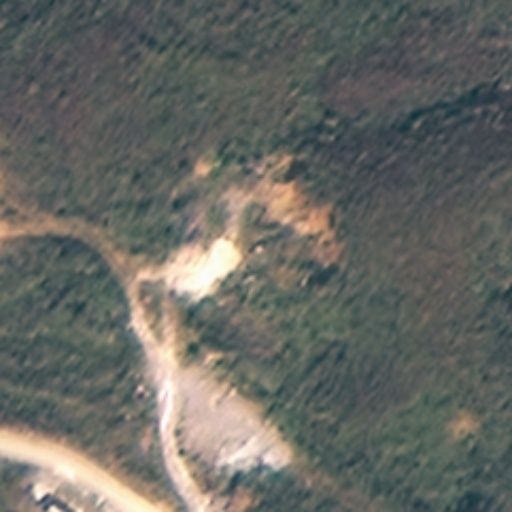landslide: (144, 151, 343, 302)
